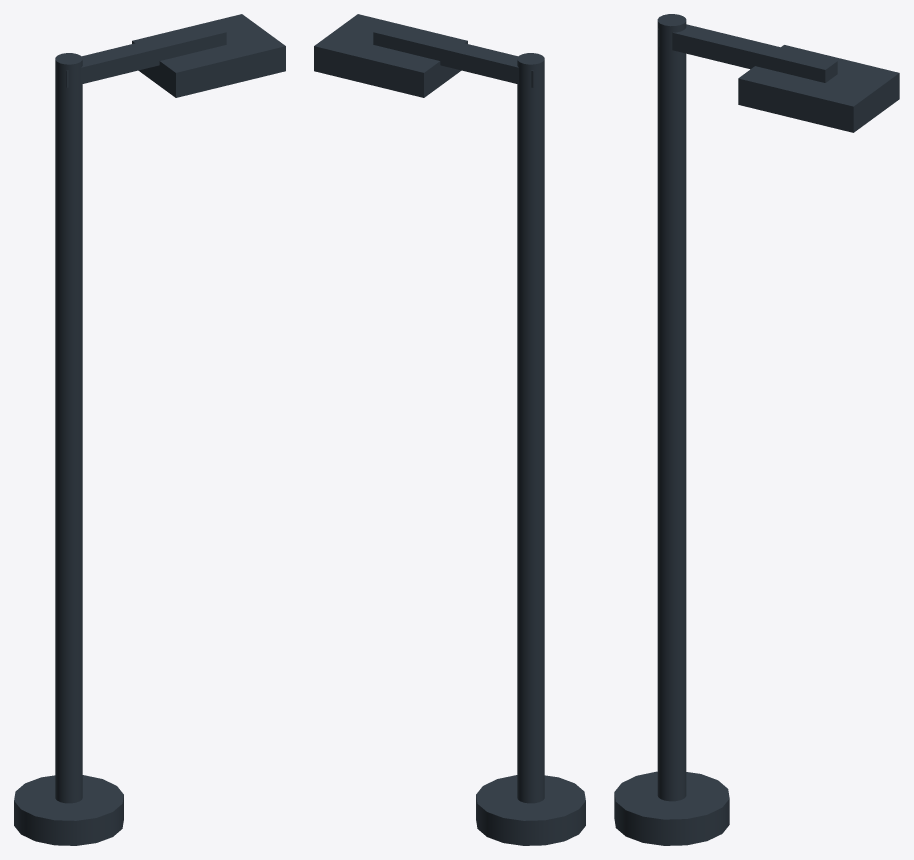
Rendered from streetlamp.glb.
3 renders of one model, left to right at view 1: azimuth 30°, elevation 25°; view 2: azimuth 150°, elevation 25°; view 3: azimuth 330°, elevation 25°, orthographic. The views are drawn at different scales.
Parts seen in each view (by area): view 1: streetlamp; view 2: streetlamp; view 3: streetlamp.
Boxes of the visible parts, bbox=[...] form: streetlamp: bbox=[14, 14, 285, 845]; streetlamp: bbox=[314, 14, 585, 845]; streetlamp: bbox=[614, 14, 899, 845].
Size of the model in its own units: 1.22 by 3.65 by 0.48.
